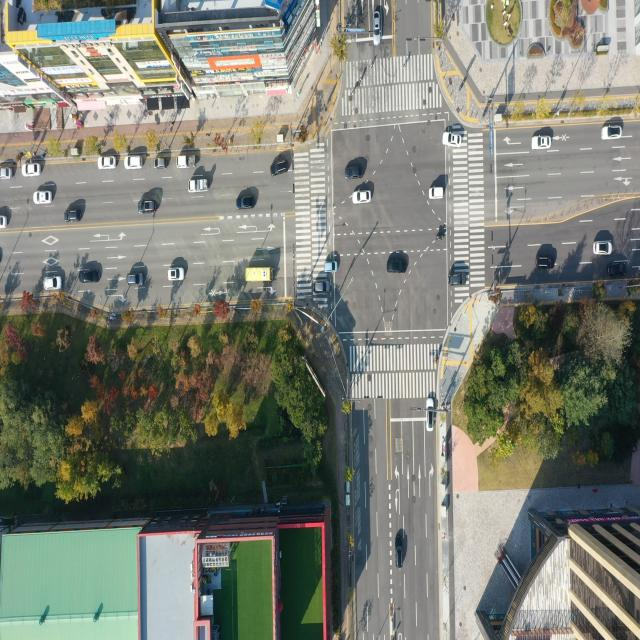car: (386, 258, 408, 276), (395, 530, 405, 568), (352, 188, 372, 204), (426, 396, 435, 431), (608, 262, 627, 278), (99, 156, 118, 172), (33, 189, 53, 204), (602, 126, 622, 141), (442, 132, 462, 147), (138, 201, 156, 217), (23, 163, 42, 178), (42, 276, 61, 291), (81, 271, 102, 284), (272, 162, 289, 178), (532, 135, 550, 150), (238, 197, 256, 211), (594, 242, 612, 256), (346, 168, 364, 182), (126, 157, 144, 171), (450, 274, 469, 287), (373, 11, 380, 46), (536, 256, 554, 269), (170, 268, 186, 282), (128, 275, 146, 287), (429, 185, 444, 199), (65, 210, 81, 223), (314, 281, 329, 294), (0, 167, 13, 181), (156, 158, 169, 170), (324, 263, 337, 274), (0, 215, 8, 229)
small_bus: (245, 268, 272, 284)
small_truck: (188, 178, 208, 195), (176, 154, 197, 169)
